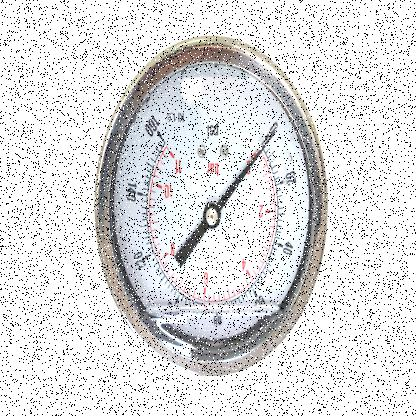needle: (215, 130, 275, 212)
